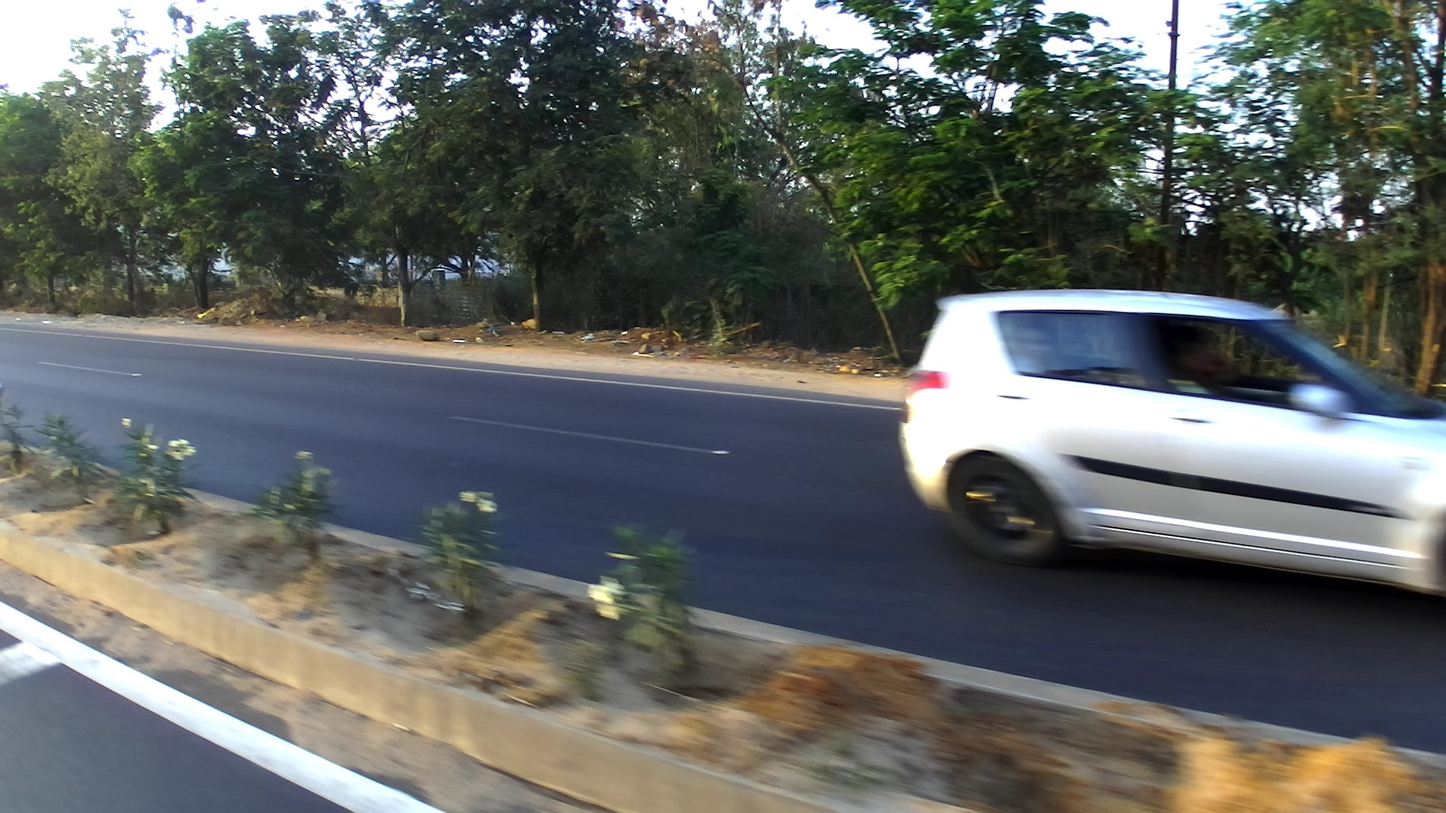car: (895, 283, 1444, 595)
